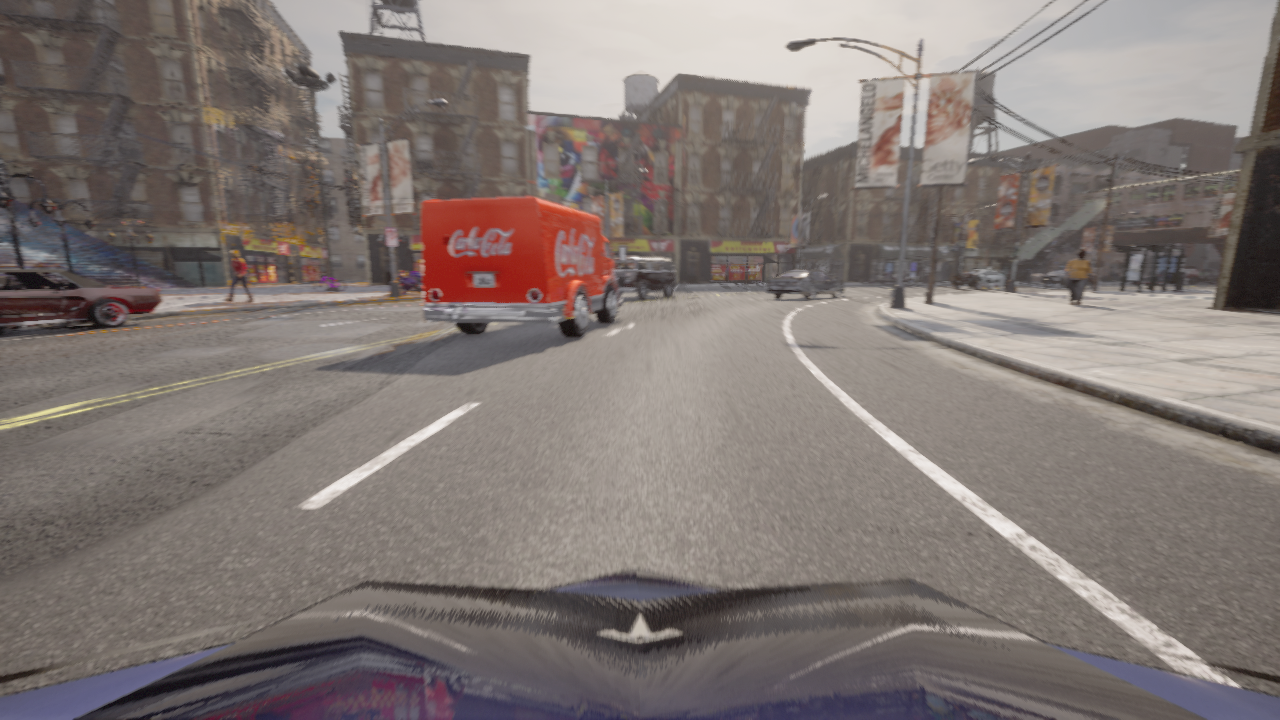cyclist: (0, 569, 1279, 719), (422, 196, 626, 337), (614, 256, 676, 298), (765, 269, 843, 299), (951, 268, 1010, 289), (1041, 270, 1099, 288), (397, 269, 423, 294), (314, 274, 345, 291), (1169, 267, 1198, 283), (1195, 273, 1219, 283)
pedestrian: (1065, 250, 1091, 305), (225, 251, 253, 302), (416, 259, 423, 283)
